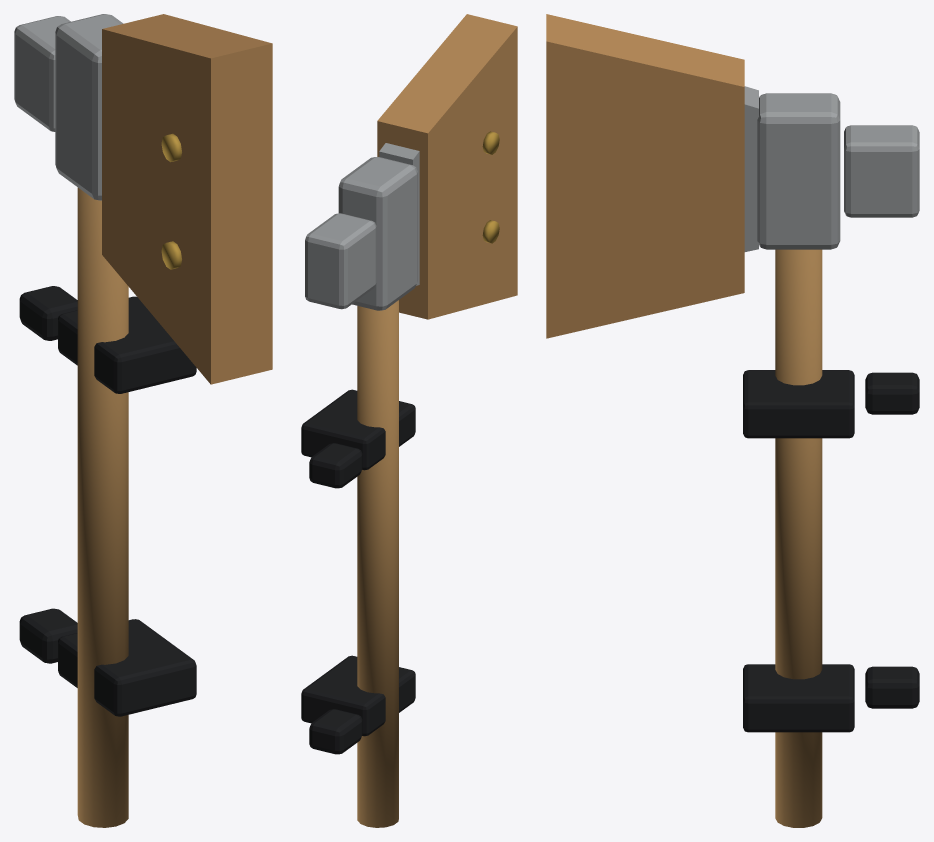
File: guardAxe_right.glb
The picture shows the model from 3 angles, left to right: view 1: azimuth 30°, elevation 25°; view 2: azimuth 150°, elevation 25°; view 3: azimuth 270°, elevation 25°; orthographic projection. The views are drawn at different scales.
Parts seen in each view (by area): view 1: sheath, handle.001, eye, axeClamp1200, axeClamp1380, poll, shackle1200, shackle1380; view 2: sheath, handle.001, eye, poll, axeClamp1380, axeClamp1200, shackle1380, shackle1200, bit; view 3: sheath, handle.001, eye, axeClamp1380, axeClamp1200, poll, bit, shackle1380, shackle1200.
Boxes of the visible parts, x1,y1,x2,y2 form: sheath: [102, 14, 272, 384]; handle.001: [77, 187, 128, 827]; eye: [55, 14, 123, 200]; axeClamp1200: [58, 619, 196, 716]; axeClamp1380: [58, 296, 196, 393]; poll: [14, 16, 70, 131]; shackle1200: [19, 608, 77, 663]; shackle1380: [19, 286, 77, 340]; sheath: [377, 14, 517, 319]; handle.001: [357, 300, 398, 827]; eye: [338, 157, 417, 310]; poll: [305, 213, 376, 309]; axeClamp1380: [301, 389, 415, 470]; axeClamp1200: [301, 655, 415, 736]; shackle1380: [309, 443, 362, 488]; shackle1200: [309, 709, 362, 754]; bit: [379, 143, 419, 285]; sheath: [546, 14, 744, 338]; handle.001: [775, 249, 822, 827]; eye: [757, 93, 840, 249]; axeClamp1380: [743, 370, 854, 438]; axeClamp1200: [743, 664, 854, 732]; poll: [844, 125, 919, 217]; bit: [744, 86, 758, 251]; shackle1380: [865, 372, 919, 414]; shackle1200: [865, 666, 919, 708].
Size of the model in its own units: 0.06 by 0.484 by 0.207.
